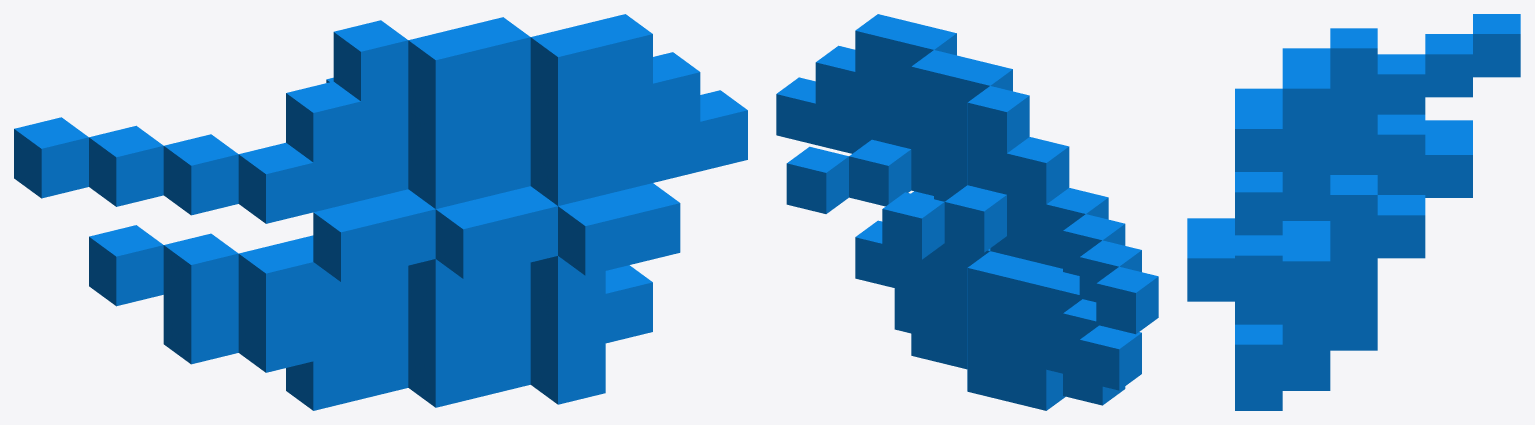
File: VoxelEffects_SpaceTrash_01.FBX
The picture shows the model from 3 angles, left to right: view 1: azimuth 30°, elevation 25°; view 2: azimuth 150°, elevation 25°; view 3: azimuth 270°, elevation 25°; orthographic projection. The views are drawn at different scales.
Visible parts, largest first — view 1: VoxelEffects_SpaceTrash_01; view 2: VoxelEffects_SpaceTrash_01; view 3: VoxelEffects_SpaceTrash_01.
Boxes of the visible parts, box(x1,y1,x2,y2) form: VoxelEffects_SpaceTrash_01: box(14, 14, 747, 410); VoxelEffects_SpaceTrash_01: box(776, 14, 1158, 410); VoxelEffects_SpaceTrash_01: box(1187, 14, 1520, 410).
Bounding box in the file's own units: 120 × 70 × 70.
